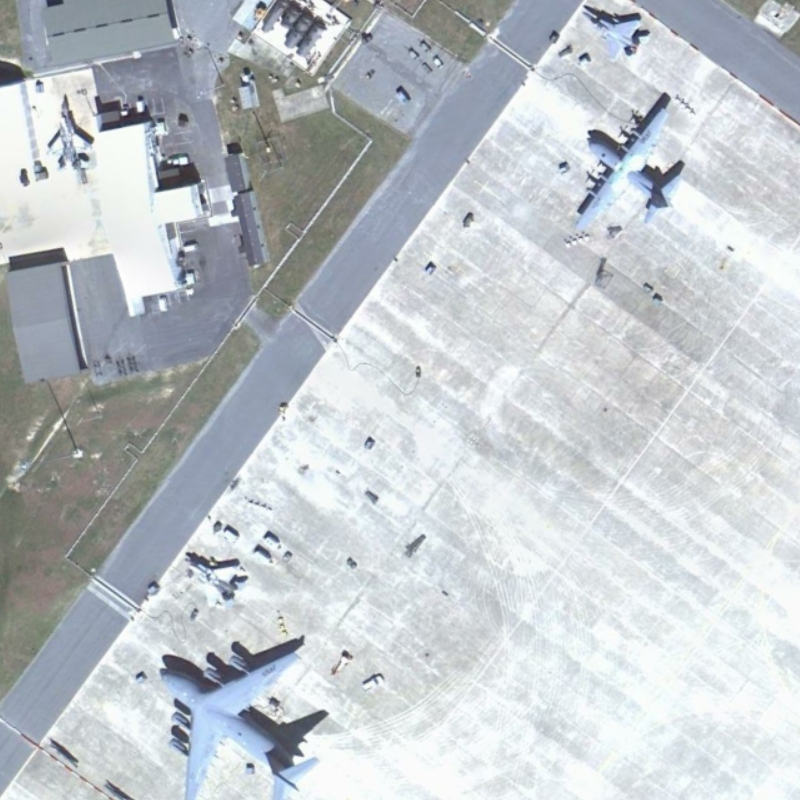A13: (577, 7, 652, 66), (181, 554, 252, 611), (45, 95, 96, 173)
A2: (574, 103, 689, 230)
A3: (156, 649, 322, 800)
